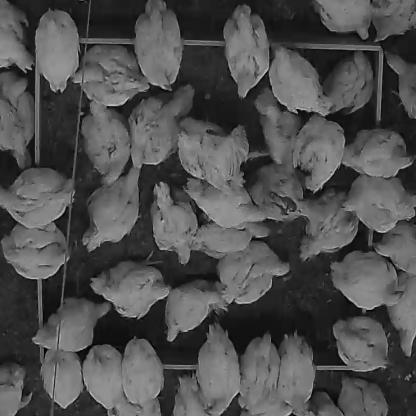chicken: (80, 156, 147, 252), (128, 85, 196, 171), (178, 115, 252, 194), (210, 242, 294, 308), (90, 258, 174, 319), (331, 250, 409, 312), (338, 169, 416, 231), (72, 42, 150, 104), (222, 5, 274, 98), (270, 40, 331, 119), (0, 168, 80, 227), (33, 294, 113, 352), (135, 1, 185, 93), (77, 104, 134, 184), (298, 193, 362, 264), (0, 219, 72, 282), (184, 175, 267, 229), (314, 47, 380, 113), (158, 280, 230, 340), (34, 6, 81, 94), (337, 127, 415, 180), (150, 184, 200, 266), (293, 117, 347, 191), (198, 321, 240, 416), (0, 69, 39, 171), (239, 328, 283, 416), (182, 214, 271, 257), (258, 83, 302, 168), (251, 168, 312, 228), (334, 320, 390, 374), (282, 328, 316, 416), (82, 341, 125, 409), (123, 338, 164, 405), (310, 1, 372, 45), (0, 1, 36, 75), (41, 348, 85, 408), (382, 49, 415, 125), (172, 371, 225, 415), (376, 221, 416, 277), (390, 268, 414, 354), (338, 378, 393, 415), (0, 359, 35, 416), (370, 1, 415, 42), (298, 392, 346, 416), (107, 398, 167, 414)
